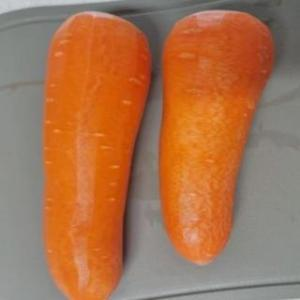carrot: (34, 2, 154, 300), (159, 5, 281, 269)
